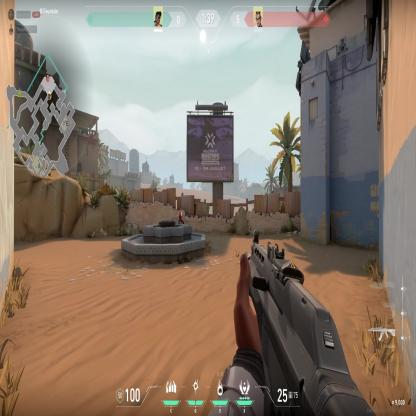enemy: (177, 206, 184, 225)
